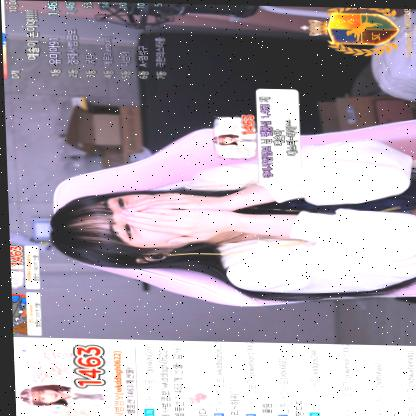donation: (207, 85, 302, 188), (11, 342, 136, 416), (8, 292, 41, 336), (7, 245, 38, 290)
streamer: (41, 131, 416, 303)
